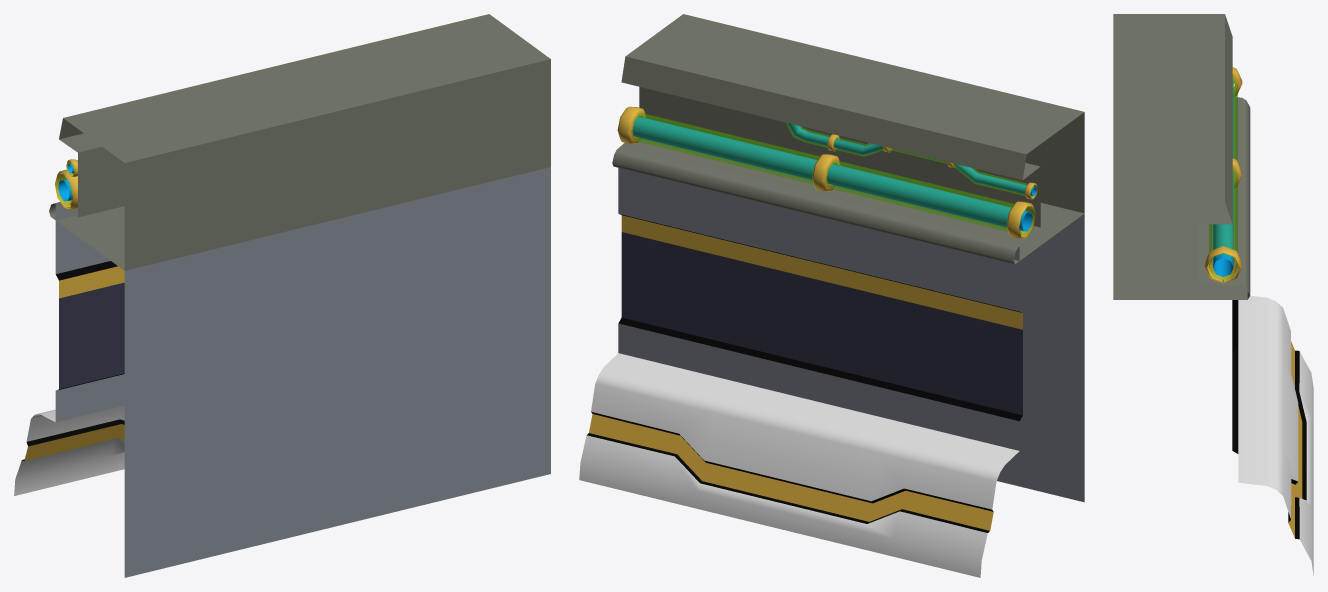
The model's file is Wall_withoutdetails.fbx.
3 views of the same model, side by side, from view 1: azimuth 30°, elevation 25°; view 2: azimuth 150°, elevation 25°; view 3: azimuth 270°, elevation 25° (orthographic). The views are drawn at different scales.
Parts seen in each view (by area): view 1: Wall_withoutdetails_; view 2: Wall_withoutdetails_; view 3: Wall_withoutdetails_.
Part boxes in pixels (box(x1,y1,x2,y2)): Wall_withoutdetails_: box(14, 14, 550, 577); Wall_withoutdetails_: box(579, 14, 1084, 577); Wall_withoutdetails_: box(1113, 14, 1313, 575).
Size of the model in its own units: 734 by 682 by 330.
